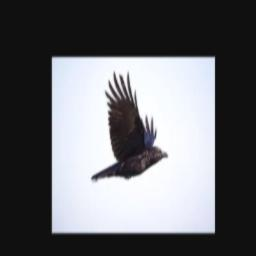Crow: (91, 71, 169, 181)
